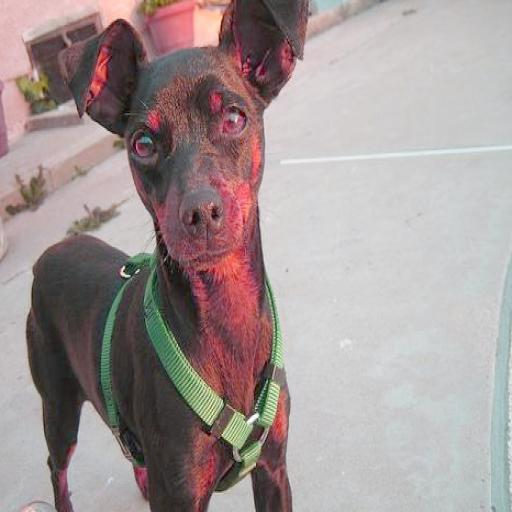dog_face: (85, 2, 312, 276)
